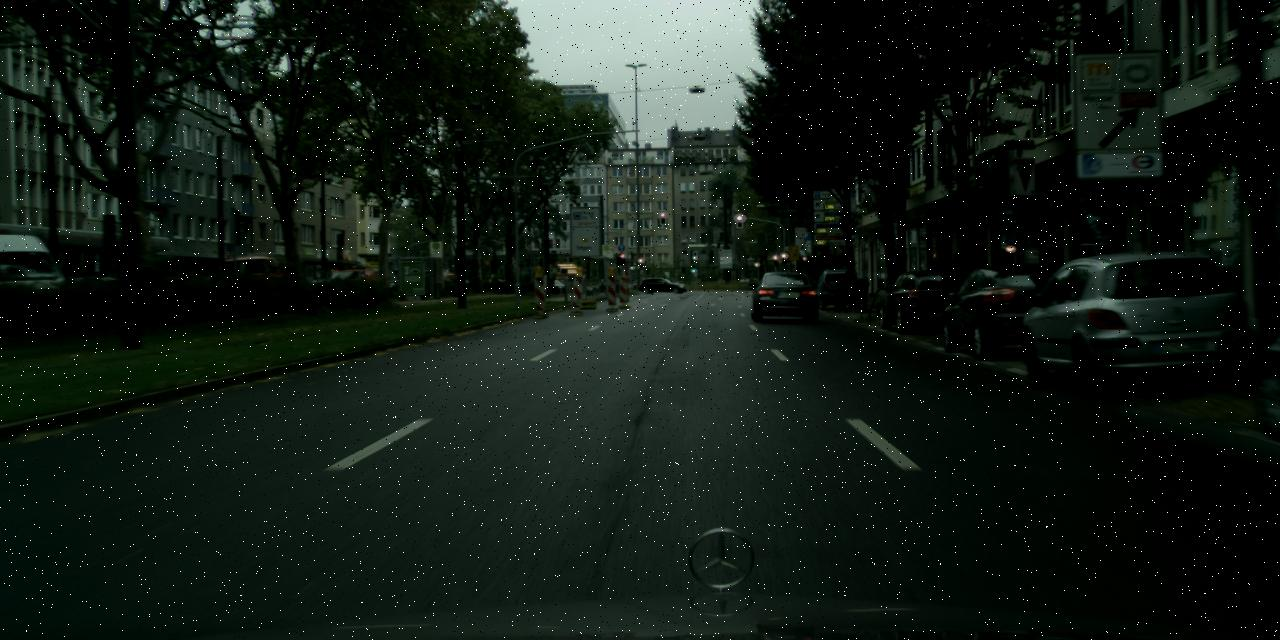ped: (945, 252, 966, 304), (926, 254, 945, 302)
